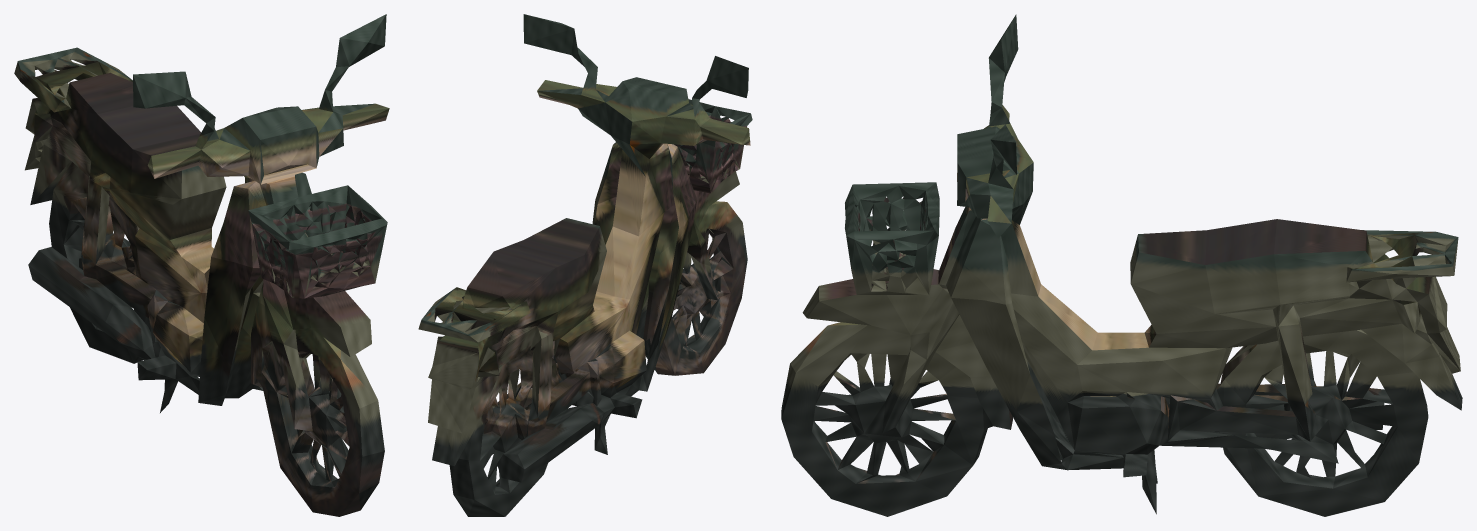
Rendered from motorbike_cub_reduced.glb.
The picture shows the model from 3 angles, left to right: view 1: azimuth 30°, elevation 25°; view 2: azimuth 150°, elevation 25°; view 3: azimuth 270°, elevation 25°; orthographic projection. The views are drawn at different scales.
Visible parts, largest first — view 1: CoveredSurface; view 2: CoveredSurface; view 3: CoveredSurface.
Boxes of the visible parts, <box> form: CoveredSurface: <box>14,14,389,516</box>; CoveredSurface: <box>418,14,752,516</box>; CoveredSurface: <box>781,14,1462,516</box>.
Size of the model in its own units: 0.8711 by 1.39 by 1.97.
Materials: 1 (1 with a texture image).
